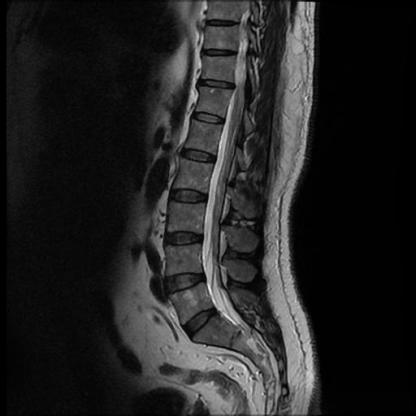Disc Bulgerotation: (181, 309, 225, 333)
Disc Relaxationrotation: (162, 184, 212, 299), (183, 310, 224, 333)
